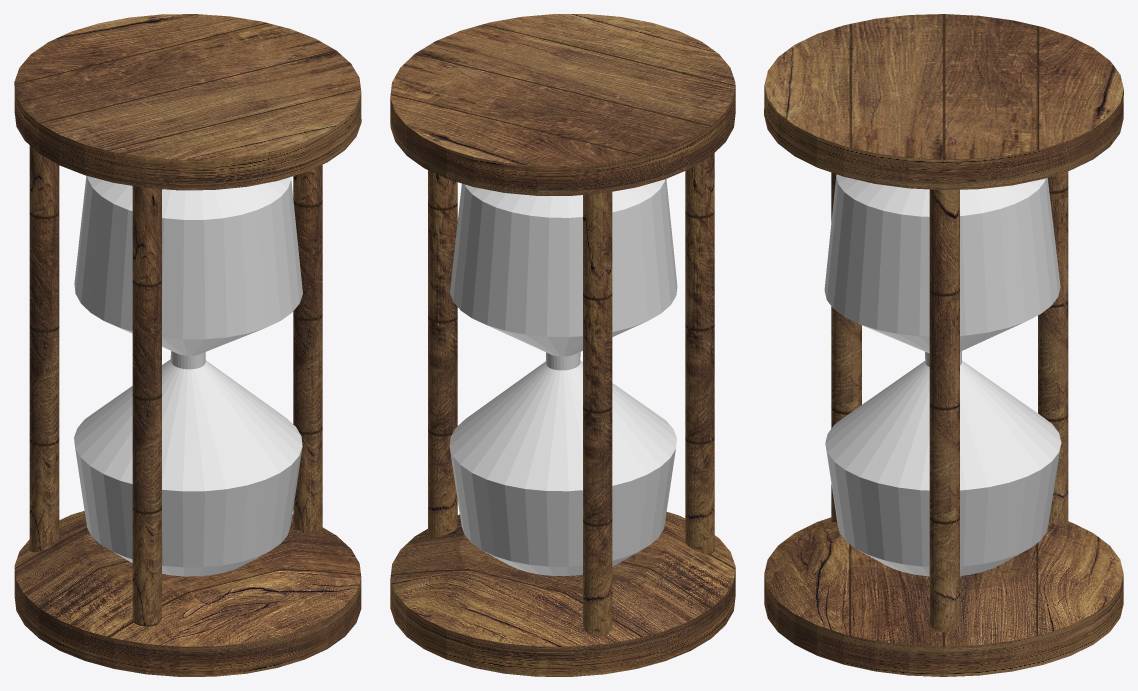
Rendered from HourGlass.fbx.
The picture shows the model from 3 angles, left to right: view 1: azimuth 30°, elevation 25°; view 2: azimuth 150°, elevation 25°; view 3: azimuth 270°, elevation 25°; orthographic projection.
Parts seen in each view (by area): view 1: Cylinder, Cylinder.001; view 2: Cylinder, Cylinder.001; view 3: Cylinder, Cylinder.001.
Part boxes in pixels (x1,y1,x2,y2): Cylinder: (14, 14, 361, 676); Cylinder.001: (74, 175, 302, 576); Cylinder: (390, 14, 735, 676); Cylinder.001: (449, 179, 677, 575); Cylinder: (764, 14, 1123, 676); Cylinder.001: (824, 174, 1061, 576).
Bounding box in the file's own units: 259 × 430 × 270.
Materials: 3 (1 with a texture image).
